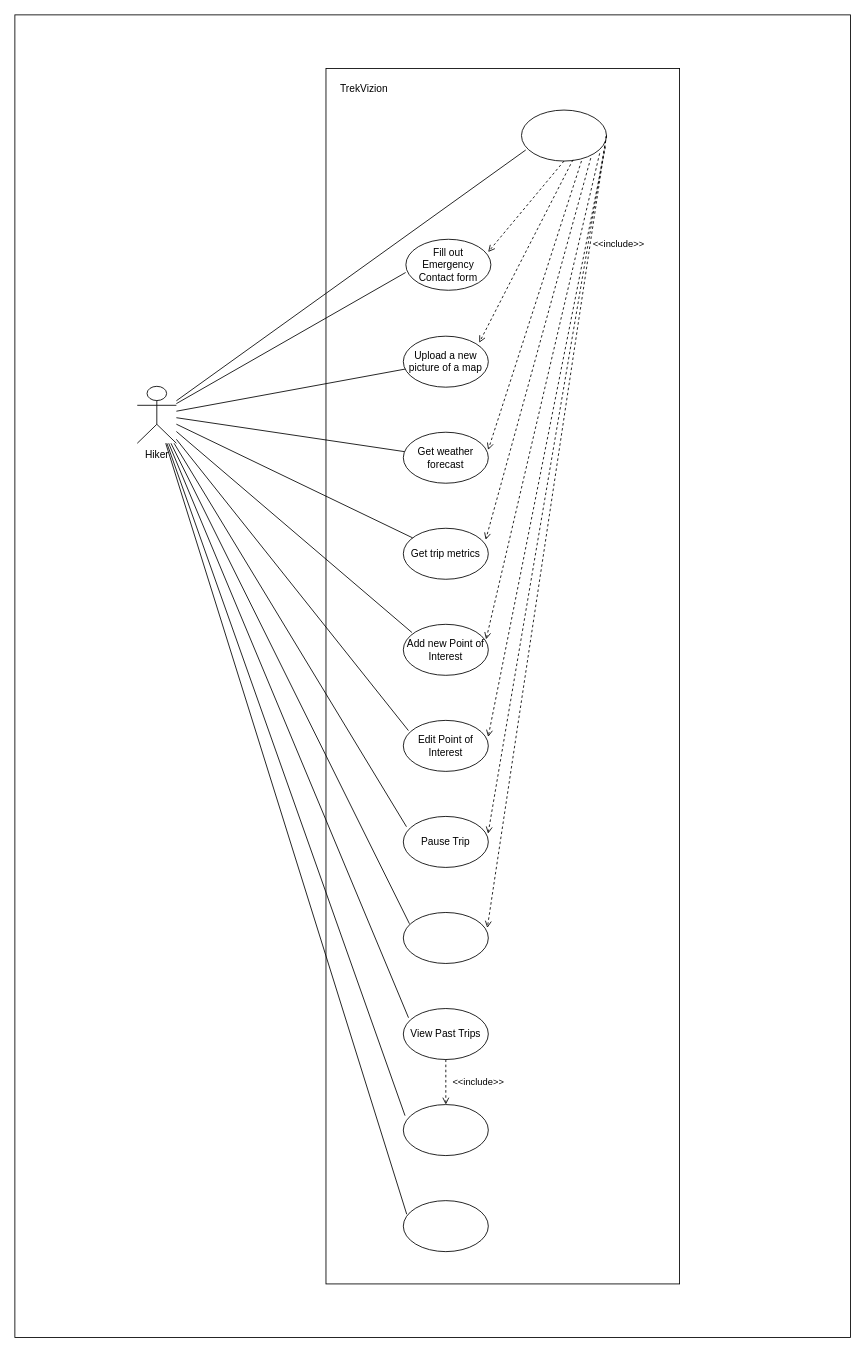
This 865x1352 diagram has some shape labels left out. Here are the shapes that lost their labels. From the top down, the box of each, then its label:
(521, 109, 606, 161): Start Trip
(402, 912, 488, 963): End trip
(402, 1104, 488, 1156): Search through Past Trips
(402, 1200, 488, 1252): Change metric system
